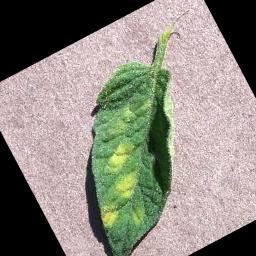Leaf_Mold: (95, 137, 145, 180), (108, 163, 151, 204), (95, 200, 124, 232)
